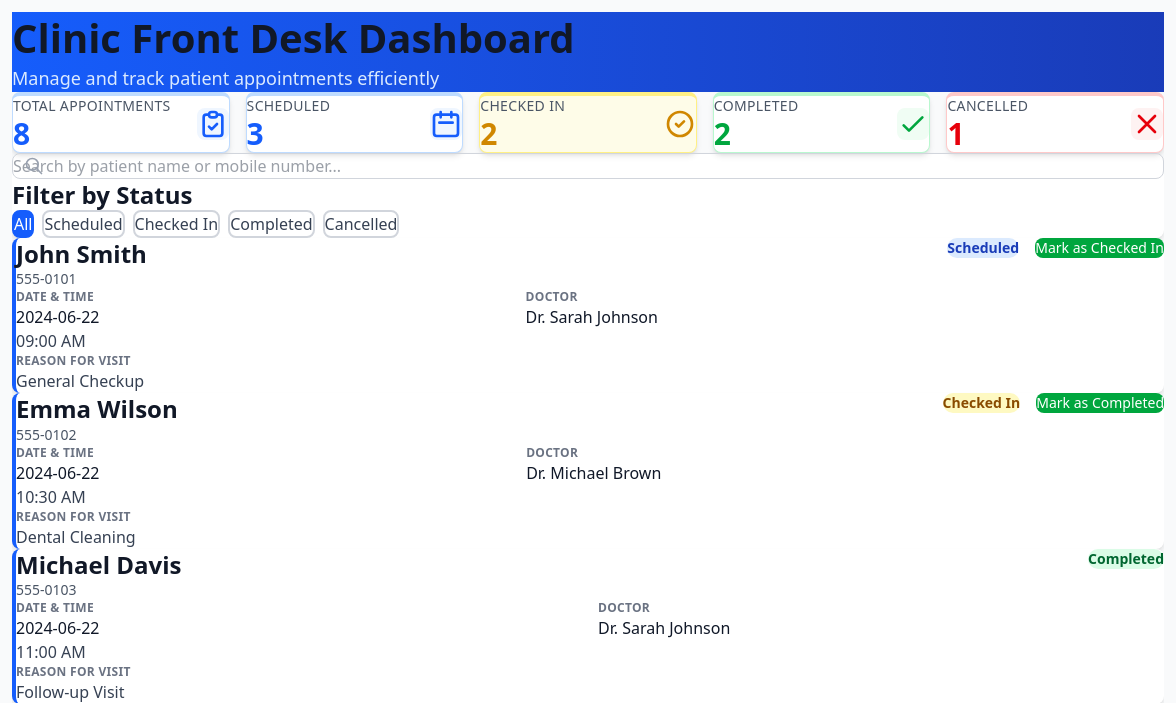
Test: Dashboard page › filters appointments by search text (user-visible behavior)
Type "Emma" into the field with placeholder "Search by patient name or mobile number..." at (588, 166), box 12,153 -> 1164,179
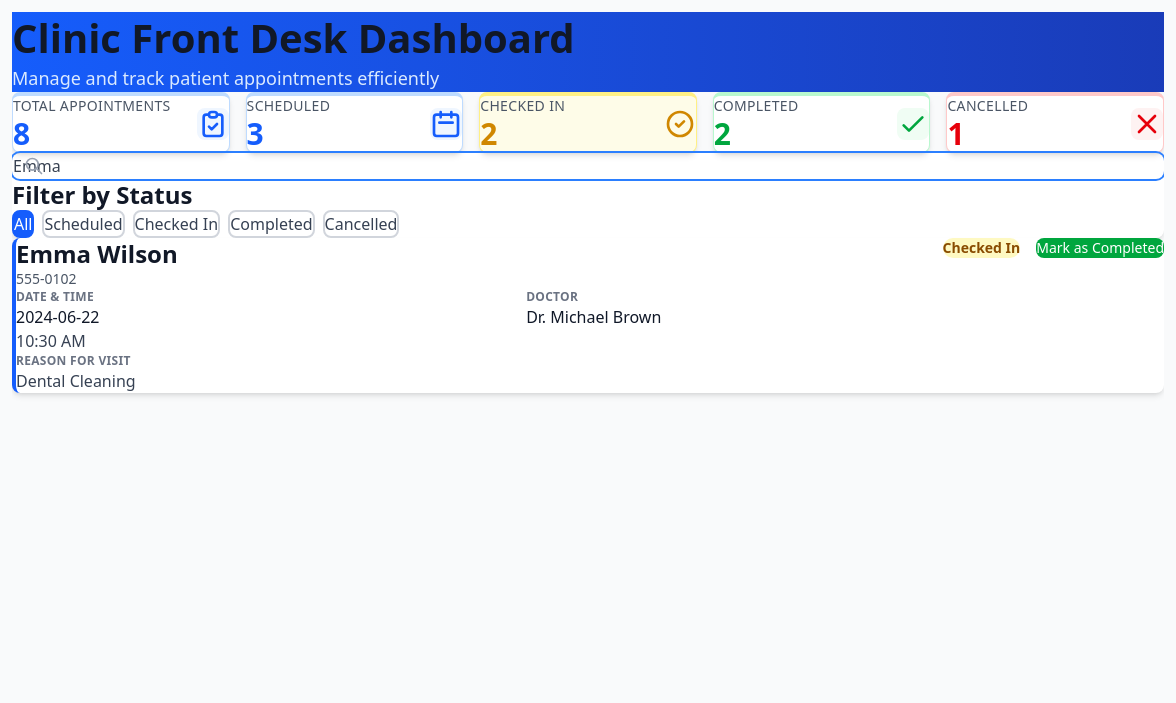
Expected: the heading "Emma Wilson" is shown, 16,238 -> 178,269
Now the heading "John Smith" is gone
